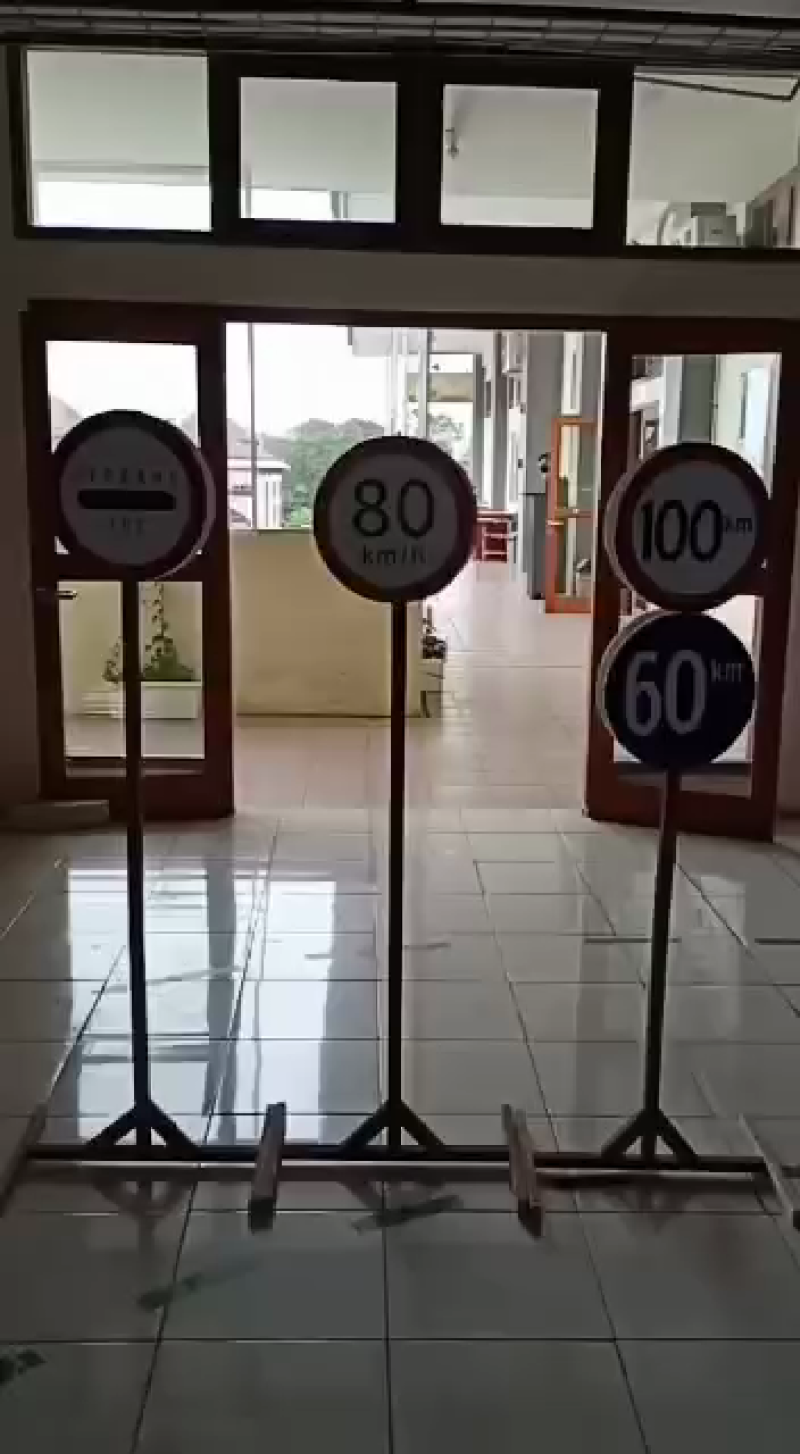batas maksimal 100kmperjam minimal 60kmperjam: (594, 437, 783, 785)
batas maksimal 80kmperjam: (305, 431, 483, 611)
gerbang tol: (46, 405, 218, 592)
